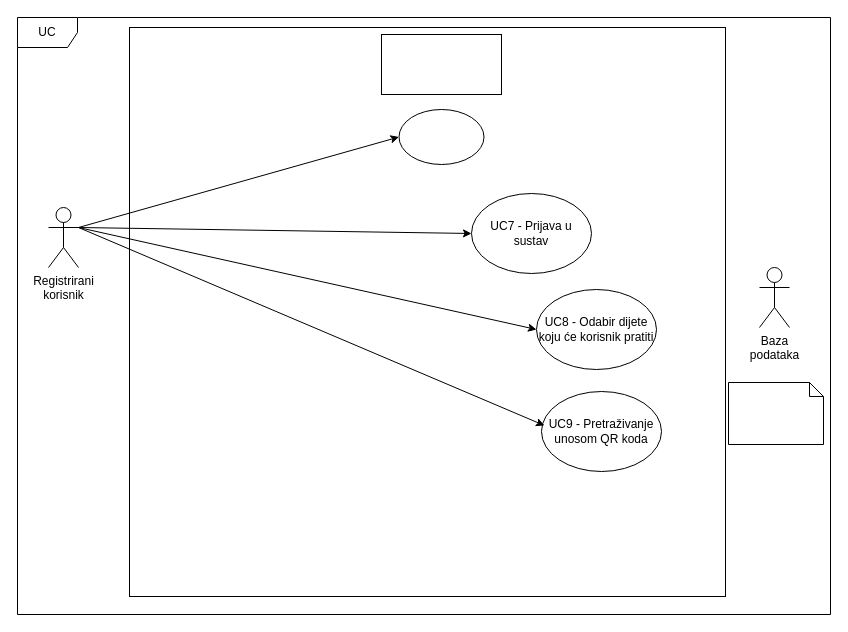
The diagram is 848 pixels wide and 632 high, and some of its shapes have lost their labels. Each missing label, with the centre of its shape:
"Funkcionalnosti registriranog korisnika" belongs at point (441, 64).
"Svi obrazci uporabe komuniciraju s bazom podataka" belongs at point (776, 413).
"UC25 - Komentiranje" belongs at point (441, 136).
